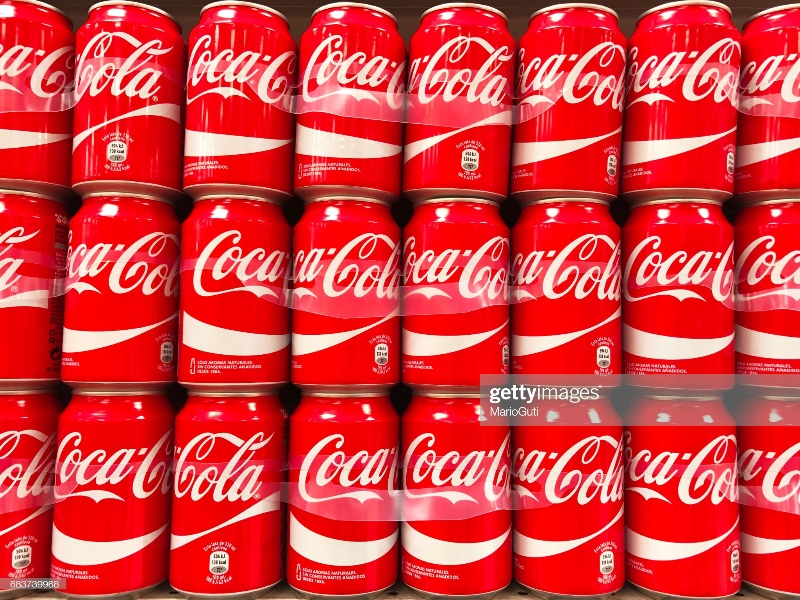coke-can: (288, 385, 405, 596), (618, 404, 741, 592), (626, 3, 742, 202), (286, 193, 408, 376), (51, 409, 166, 600), (513, 4, 628, 193), (66, 3, 184, 186), (399, 402, 514, 587), (172, 406, 283, 596), (70, 203, 177, 387), (185, 4, 294, 182), (623, 202, 733, 378), (178, 204, 280, 391), (514, 404, 618, 587), (514, 203, 619, 382), (297, 12, 411, 174), (411, 12, 513, 193), (404, 199, 505, 381)
